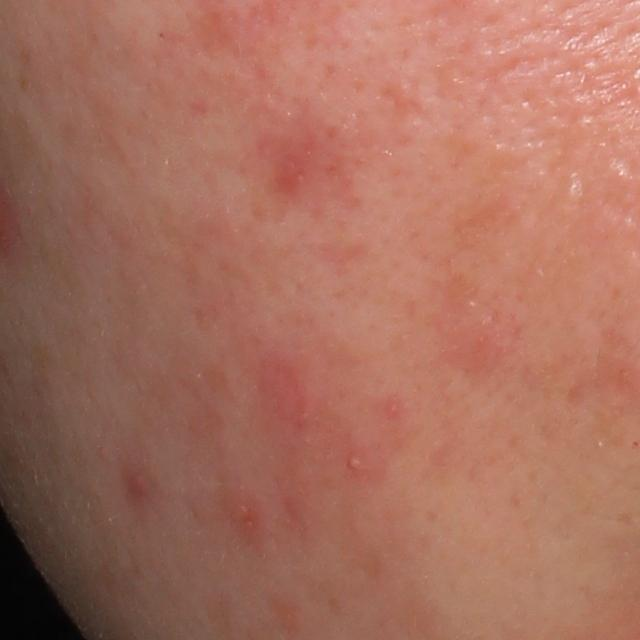papule: (234, 495, 269, 535), (124, 473, 150, 499)
pustule: (343, 450, 369, 473)
